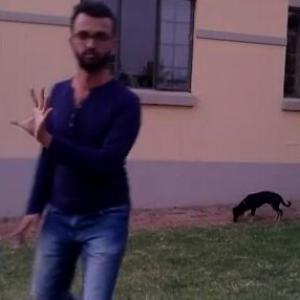follow_hand: (7, 78, 59, 140)
